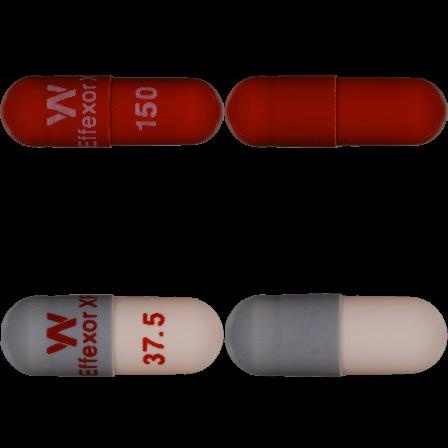0008-0836: (0, 0, 224, 224)
